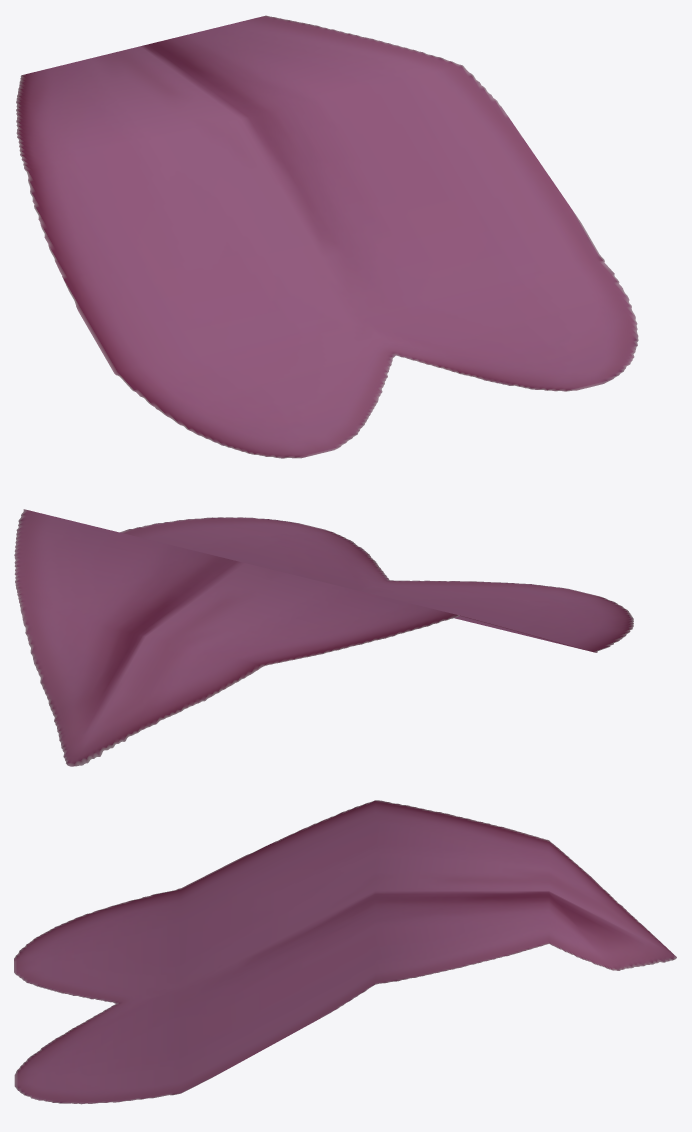
Rendered from PROP_Leaf_03_block.fbx.
3 views of the same model, one above another, from view 1: azimuth 30°, elevation 25°; view 2: azimuth 150°, elevation 25°; view 3: azimuth 270°, elevation 25° (orthographic). The views are drawn at different scales.
Parts seen in each view (by area): view 1: PROP_Leaf_03_block; view 2: PROP_Leaf_03_block; view 3: PROP_Leaf_03_block.
Part boxes in pixels (box(x1,y1,x2,y2)): PROP_Leaf_03_block: box(16, 15, 638, 458); PROP_Leaf_03_block: box(14, 509, 633, 766); PROP_Leaf_03_block: box(14, 800, 676, 1104).
Size of the model in its own units: 73.66 by 21.36 by 98.72.
1 material, 1 textured.
